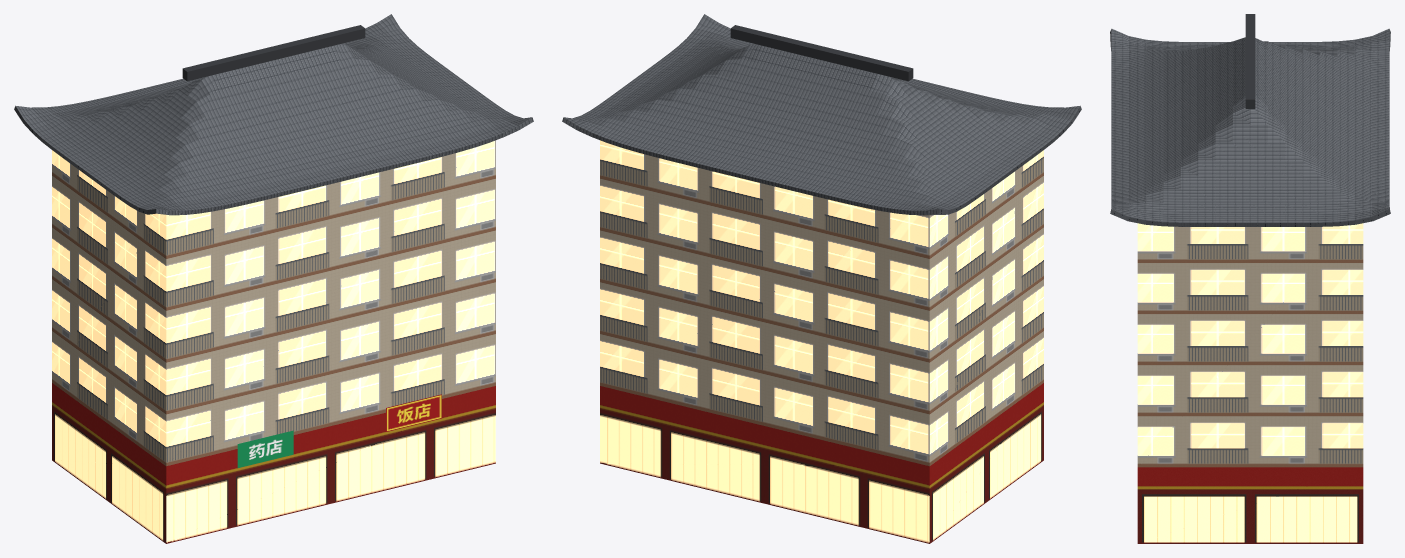
The model's file is chn_mid.glb.
3 views of the same model, side by side, from view 1: azimuth 30°, elevation 25°; view 2: azimuth 150°, elevation 25°; view 3: azimuth 270°, elevation 25° (orthographic).
Visible parts, largest first — view 1: croof; view 2: croof; view 3: croof.
Part boxes in pixels (left/top/right/bottom): croof: left=14, top=14, right=533, bottom=543; croof: left=562, top=14, right=1081, bottom=543; croof: left=1110, top=14, right=1390, bottom=543.
Size of the model in its own units: 22.88 by 23.95 by 14.95.
Materials: 6 (5 with a texture image).
